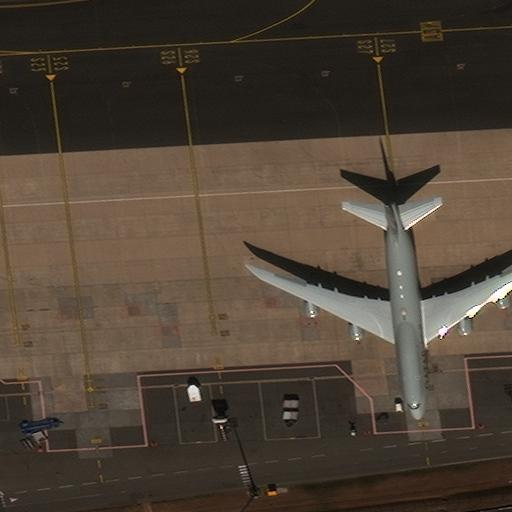Large Civil Transport: (255, 202, 511, 418)
